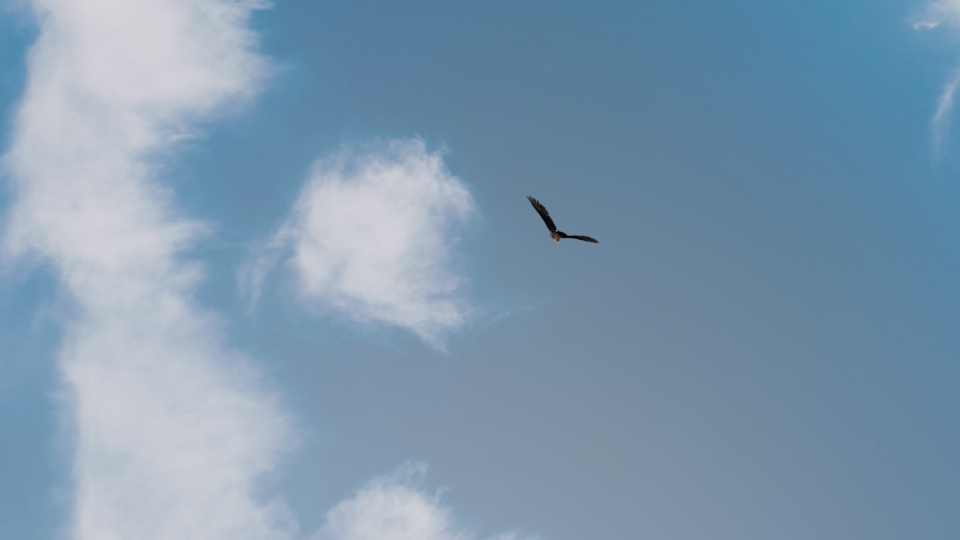bird: (525, 194, 600, 243)
